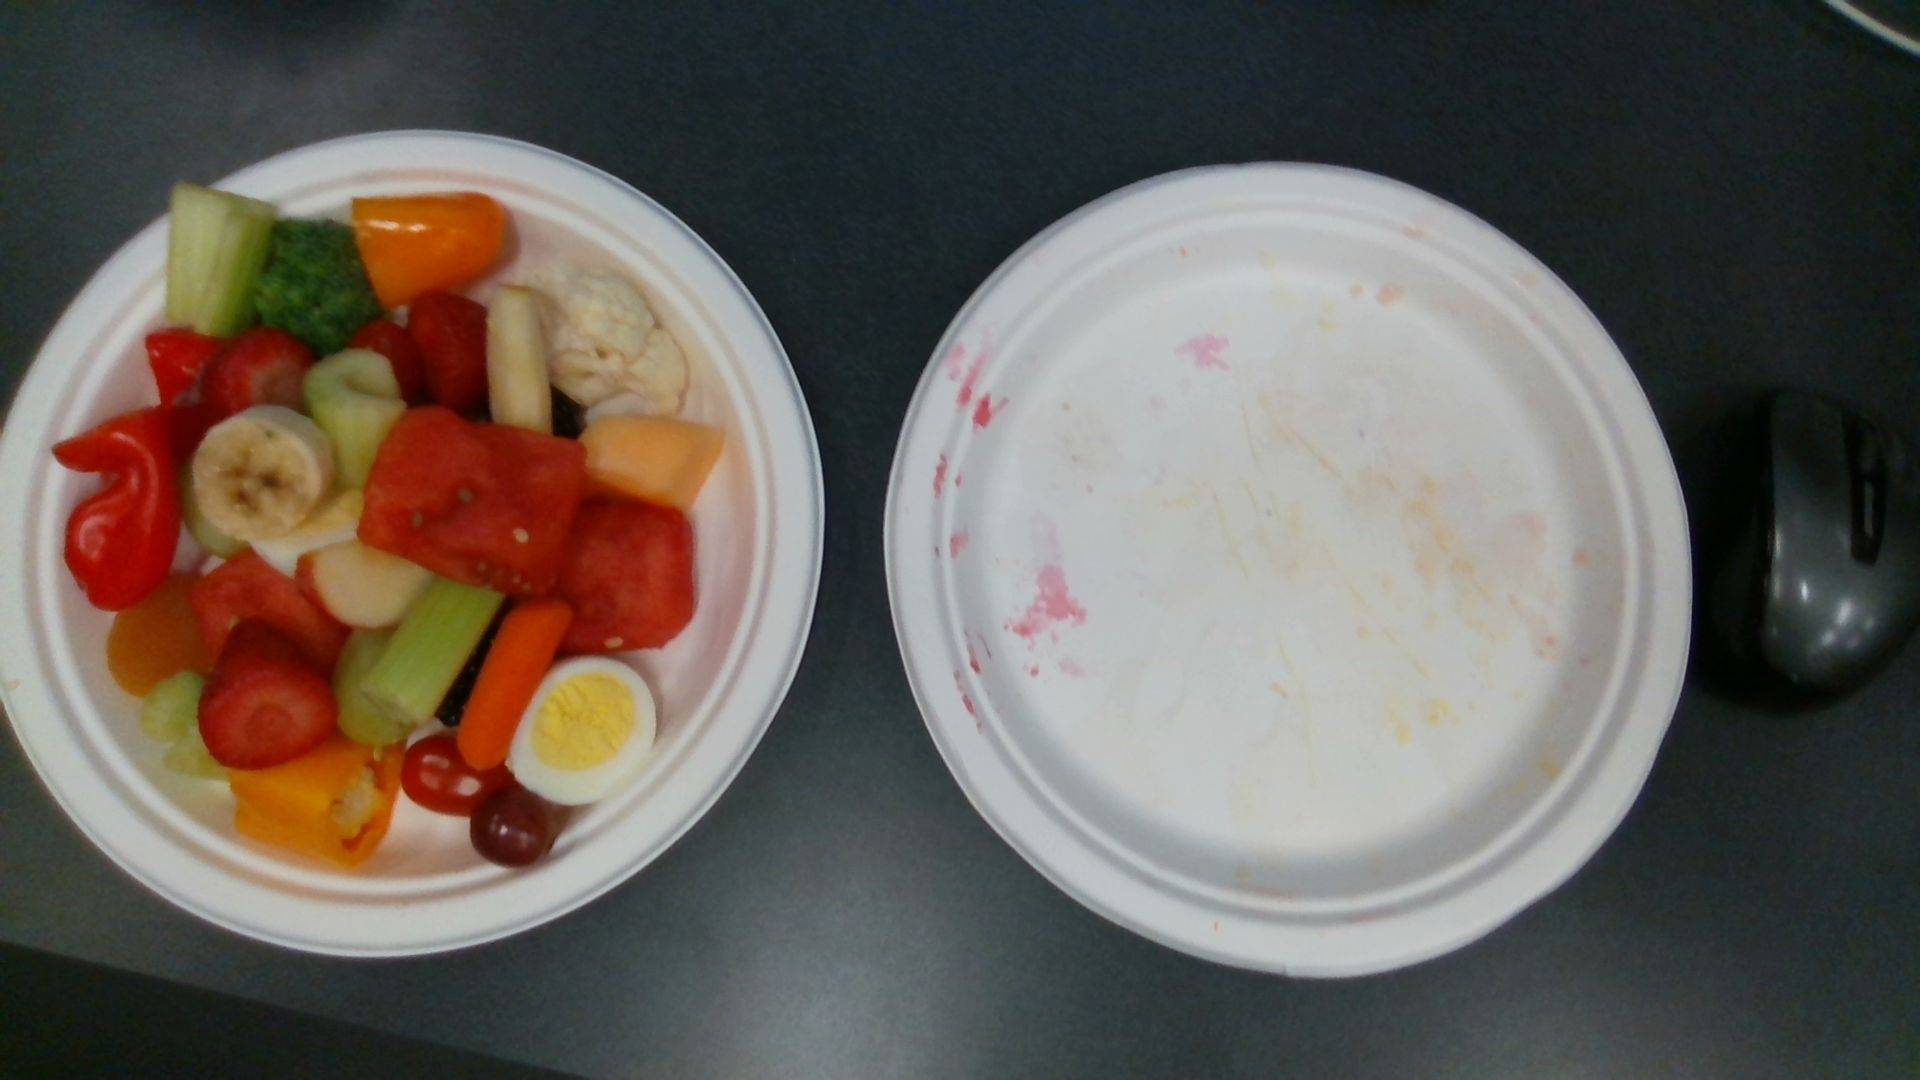apple: (301, 543, 433, 632), (297, 541, 422, 626), (485, 278, 555, 431)
apricot: (109, 576, 220, 698)
banana: (193, 405, 332, 541)
bell_pepper: (51, 407, 177, 608), (233, 745, 400, 870), (347, 193, 505, 306)
broccoli: (247, 214, 378, 353)
cantalope: (584, 415, 720, 506)
carrot: (458, 600, 572, 767)
cauliflower: (531, 260, 690, 415)
celery: (359, 583, 495, 733), (170, 179, 274, 338), (305, 353, 405, 487)
cherry_tomato: (402, 735, 509, 815)
egg: (509, 659, 659, 806)
grape_purple: (472, 793, 550, 872)
melon: (364, 407, 582, 589), (553, 505, 695, 651)
strawberry: (199, 618, 335, 773)
